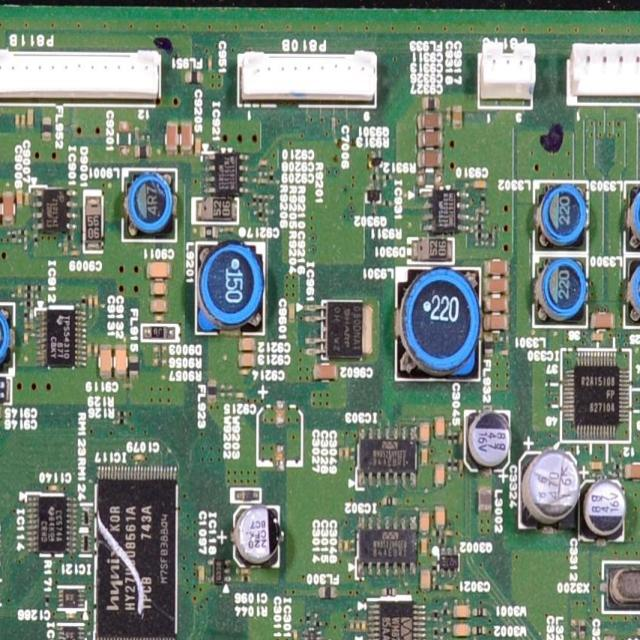IC: (99, 477, 178, 639), (575, 365, 619, 425), (358, 526, 412, 563), (327, 301, 362, 357), (358, 440, 413, 475), (39, 496, 69, 552), (47, 310, 75, 366), (379, 603, 412, 640), (41, 188, 68, 233), (432, 190, 458, 232), (214, 153, 238, 196)
capacitor: (483, 277, 510, 298), (589, 311, 616, 331), (415, 112, 444, 130), (416, 150, 444, 168), (146, 260, 174, 278), (484, 258, 509, 278), (483, 314, 512, 331), (100, 342, 113, 378), (416, 132, 445, 148), (312, 364, 340, 380), (4, 192, 15, 225), (485, 297, 509, 312), (150, 297, 170, 315), (180, 120, 191, 152), (451, 623, 474, 638), (115, 345, 126, 376), (167, 122, 176, 156), (419, 570, 432, 593), (236, 338, 257, 352), (435, 506, 447, 530), (150, 283, 171, 296), (625, 464, 640, 482), (436, 463, 446, 490), (451, 606, 470, 620), (238, 353, 258, 366), (421, 508, 430, 535), (435, 415, 444, 441), (453, 106, 462, 130), (422, 422, 431, 442), (118, 120, 132, 132), (288, 303, 296, 323), (590, 331, 604, 342), (422, 447, 429, 468), (336, 537, 344, 555), (420, 538, 428, 556), (198, 566, 205, 586), (474, 179, 487, 189), (27, 109, 34, 127), (590, 462, 604, 471), (17, 190, 23, 208), (240, 368, 250, 378), (46, 485, 60, 492), (133, 454, 145, 462), (196, 138, 201, 157), (446, 105, 451, 122), (154, 314, 166, 321), (258, 160, 268, 168), (66, 613, 76, 621), (207, 56, 212, 72), (24, 193, 30, 206), (344, 539, 350, 552), (292, 627, 298, 640), (88, 294, 93, 308), (344, 448, 349, 462), (604, 635, 618, 640), (20, 115, 26, 126), (15, 115, 20, 128), (93, 344, 98, 356), (338, 449, 343, 461), (225, 226, 233, 232), (94, 296, 98, 308), (89, 343, 92, 357), (0, 407, 2, 418)
resistor: (258, 209, 264, 223), (252, 194, 257, 208), (258, 196, 263, 208), (270, 172, 274, 184)
